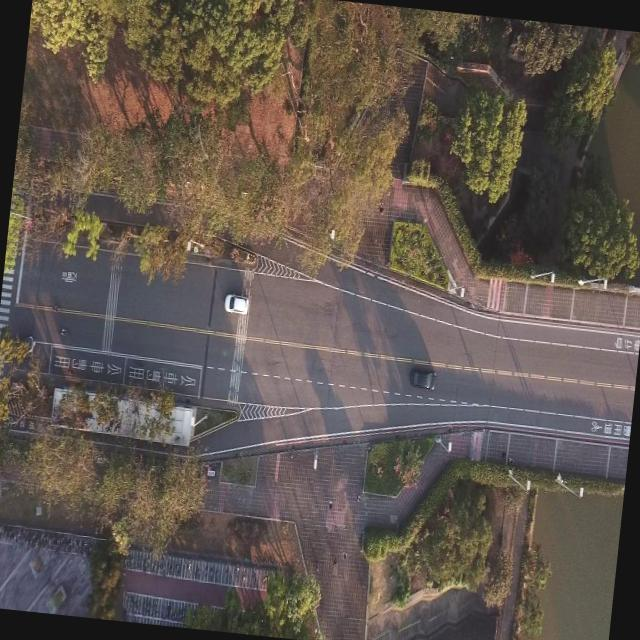car: (408, 364, 436, 390), (223, 292, 249, 314)
